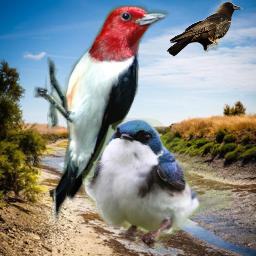Crow: (167, 0, 244, 59)
Swallow: (82, 118, 232, 249)
Woodpecker: (32, 5, 171, 225)
